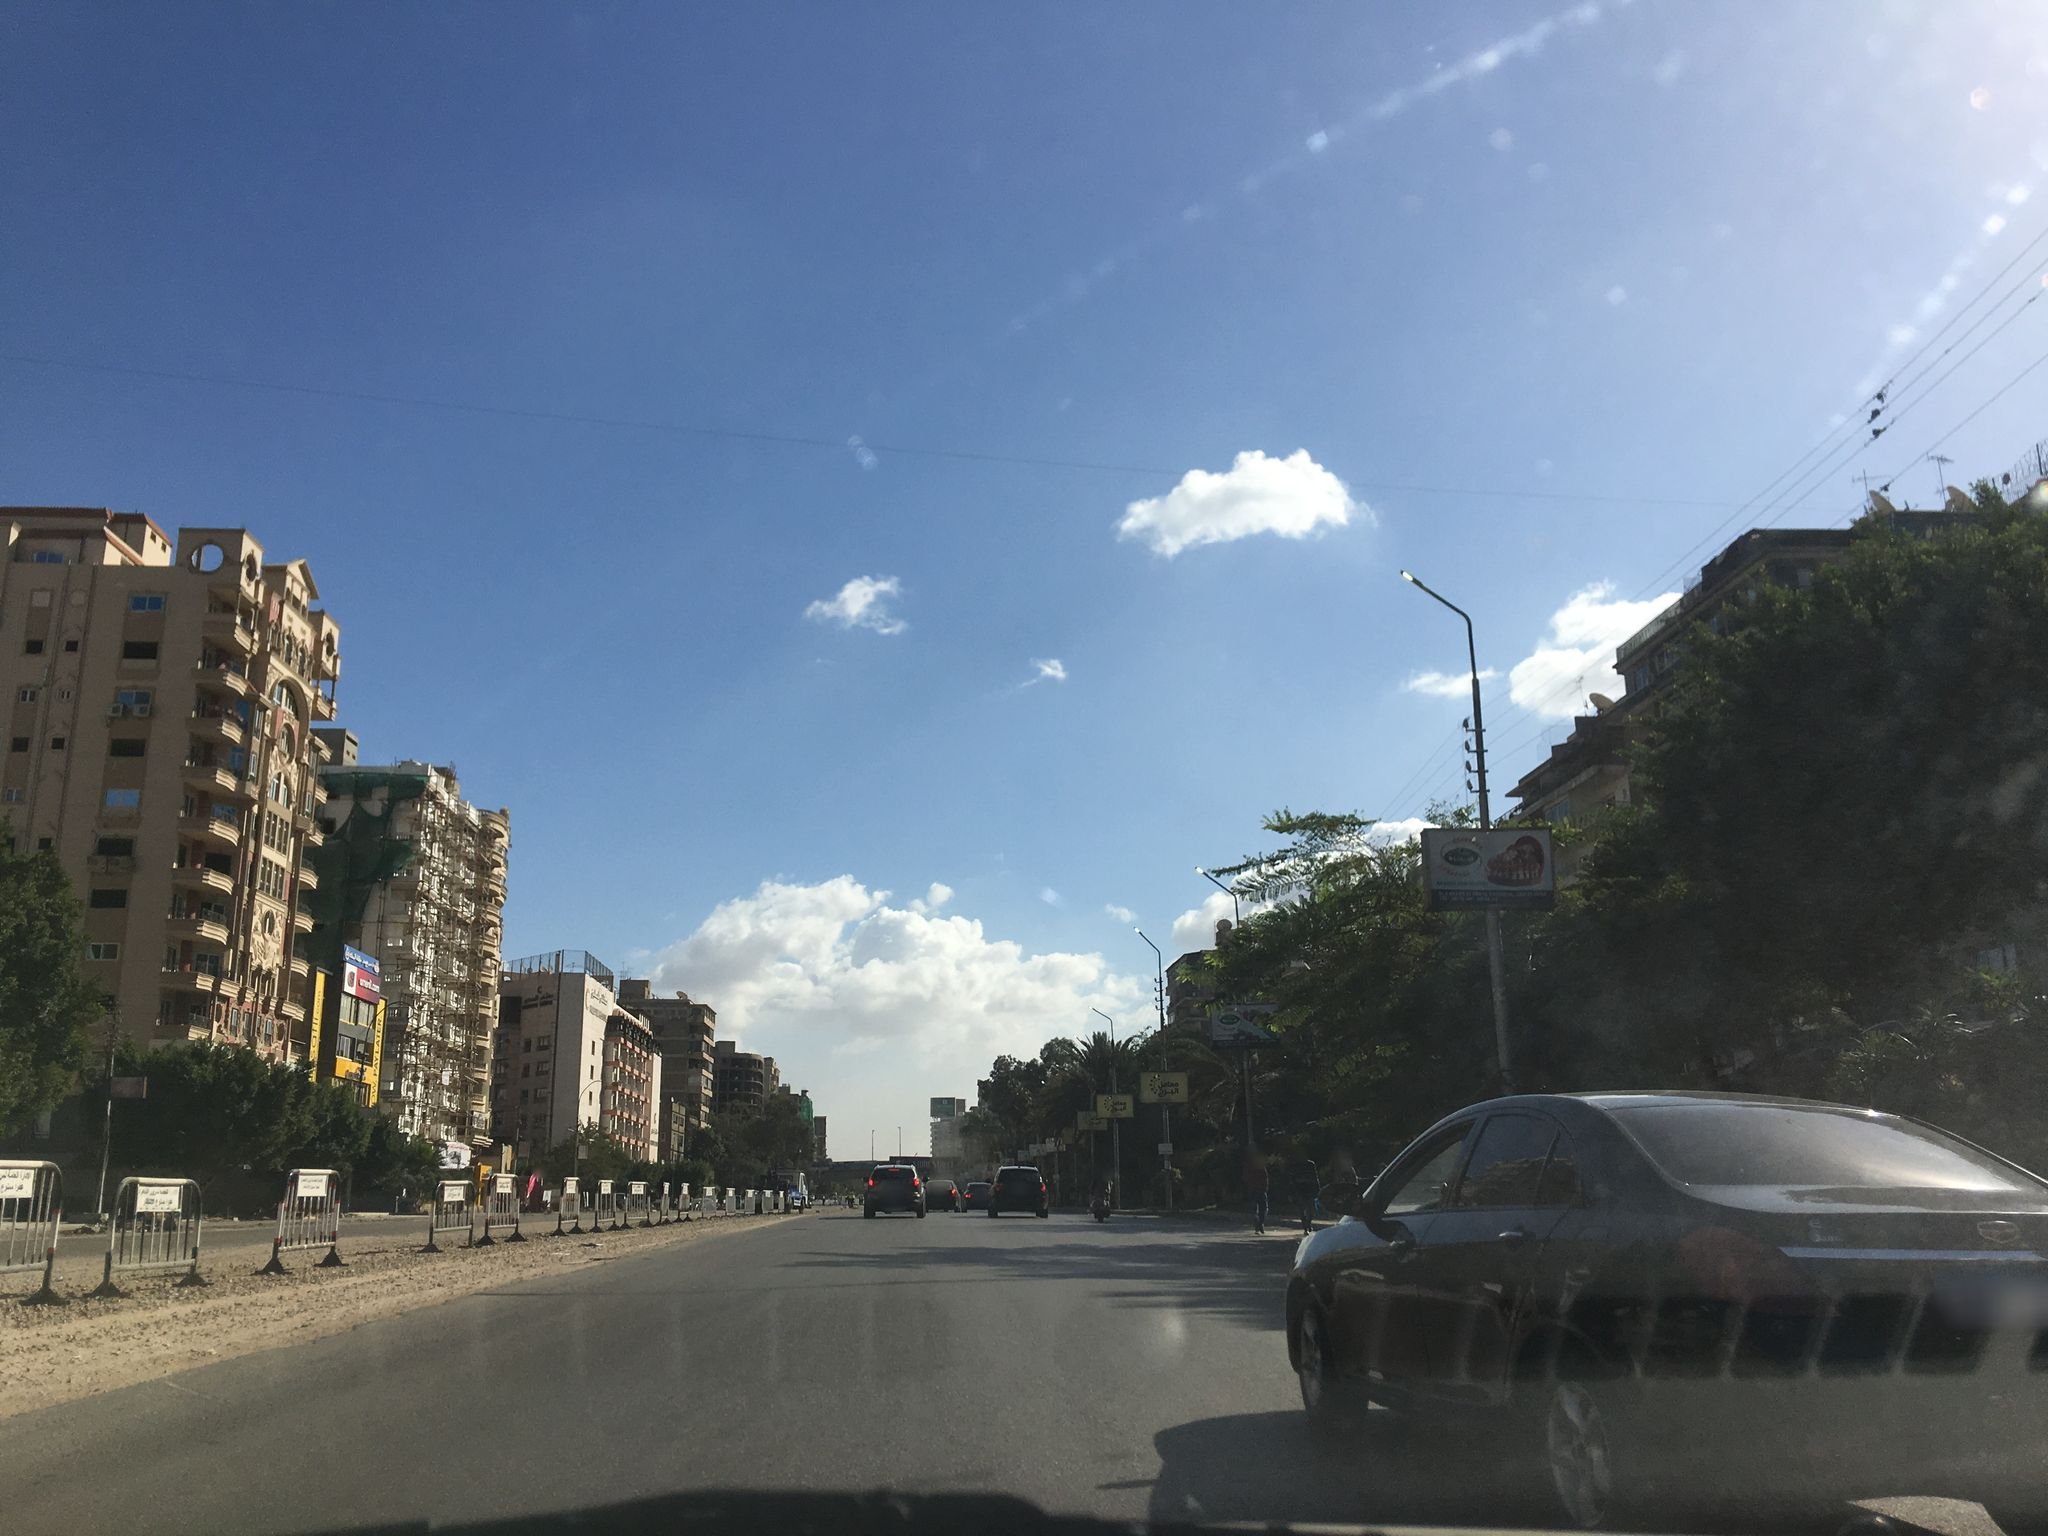car: (1279, 1083, 2048, 1528), (863, 1163, 929, 1217), (985, 1163, 1050, 1217), (922, 1179, 961, 1212), (961, 1179, 993, 1213)
motorcycle: (1087, 1184, 1113, 1221)
truck: (748, 1170, 808, 1210)
